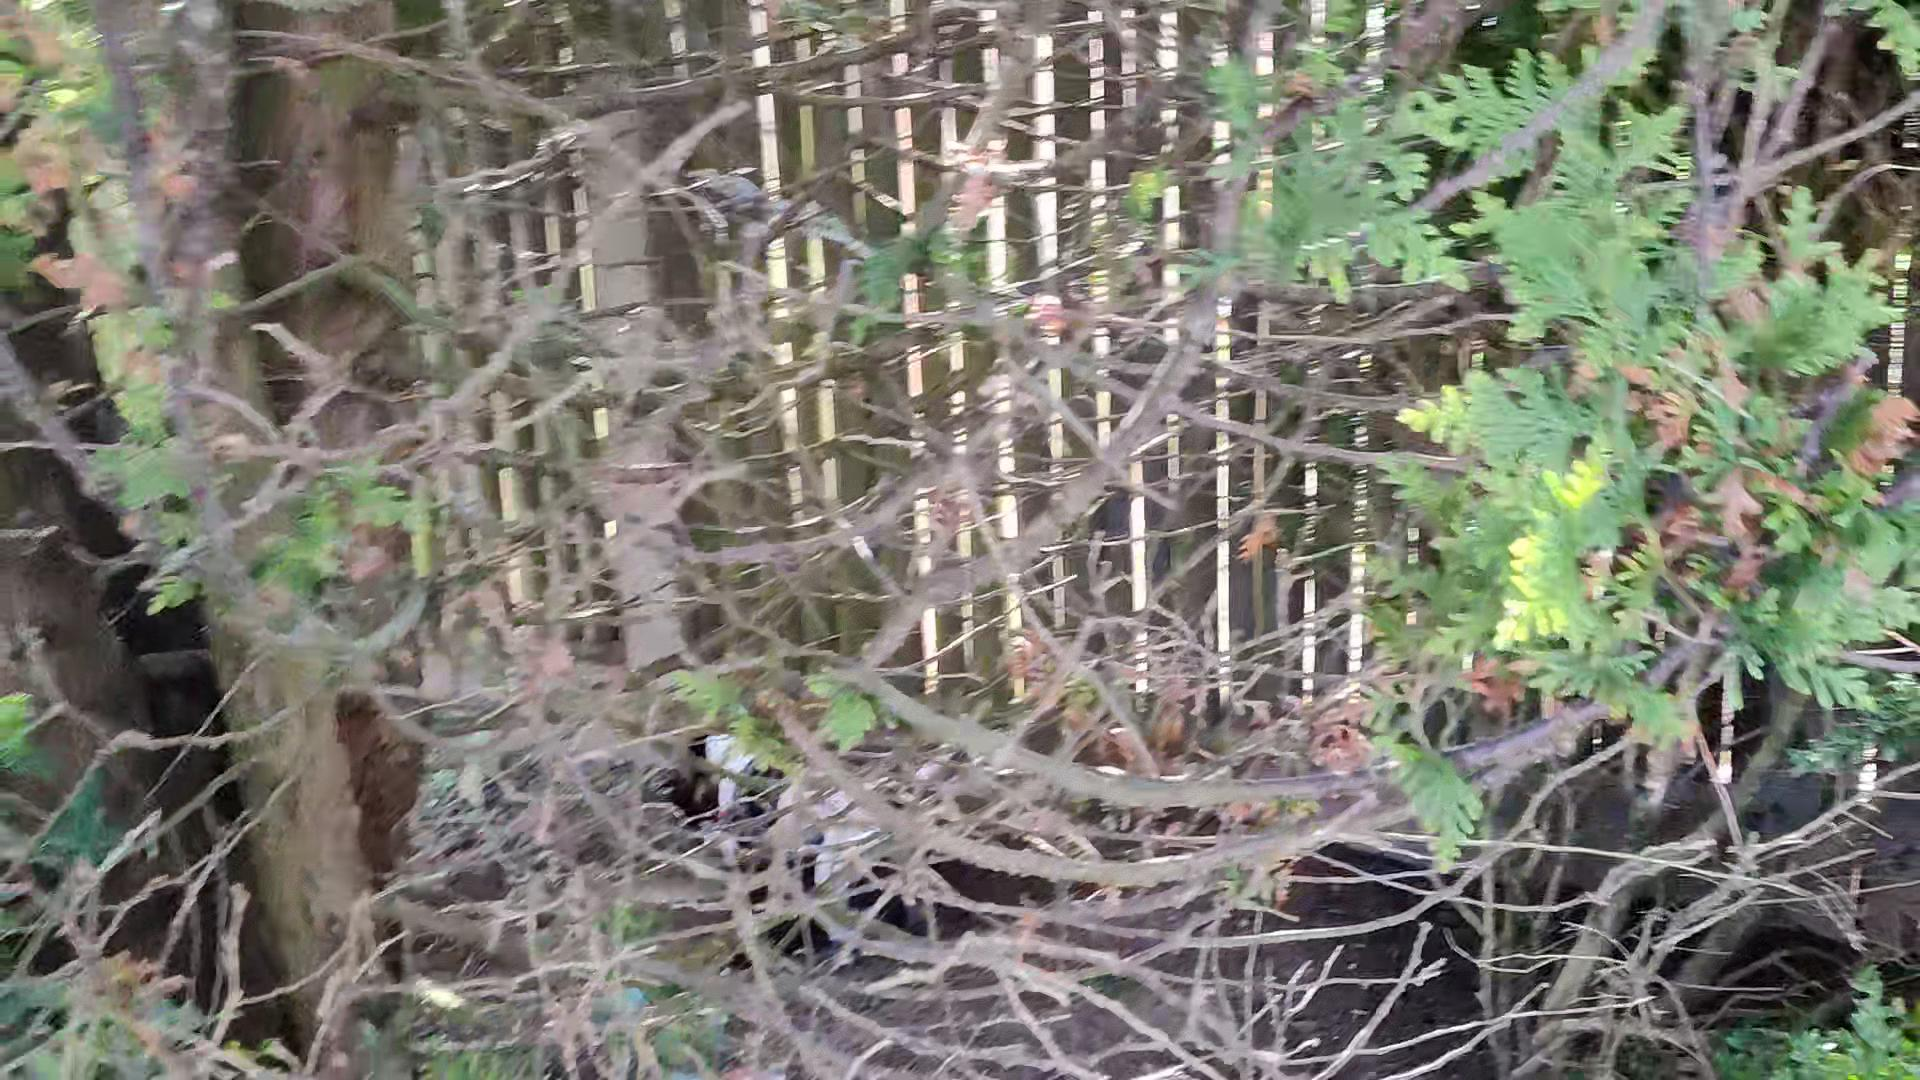Dog: (676, 705, 965, 948)
